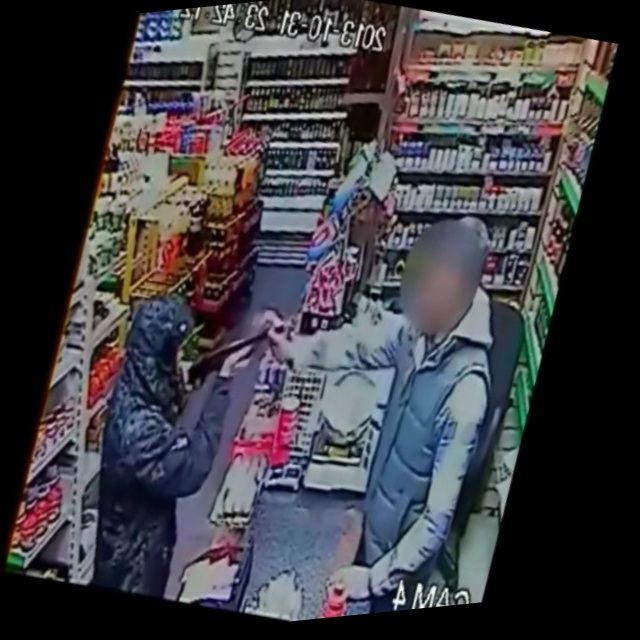gun: (172, 286, 309, 406)
